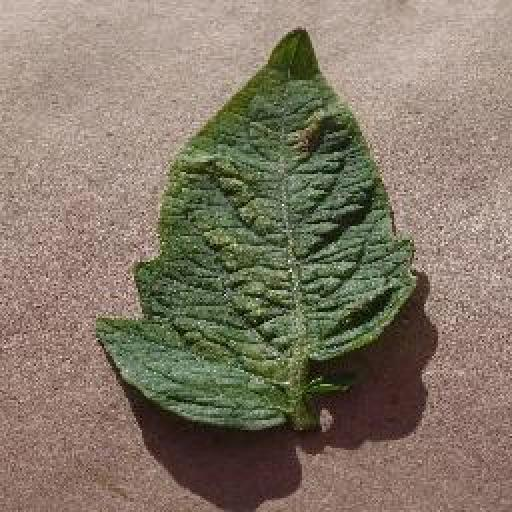disease_tomato: (98, 26, 418, 432)
